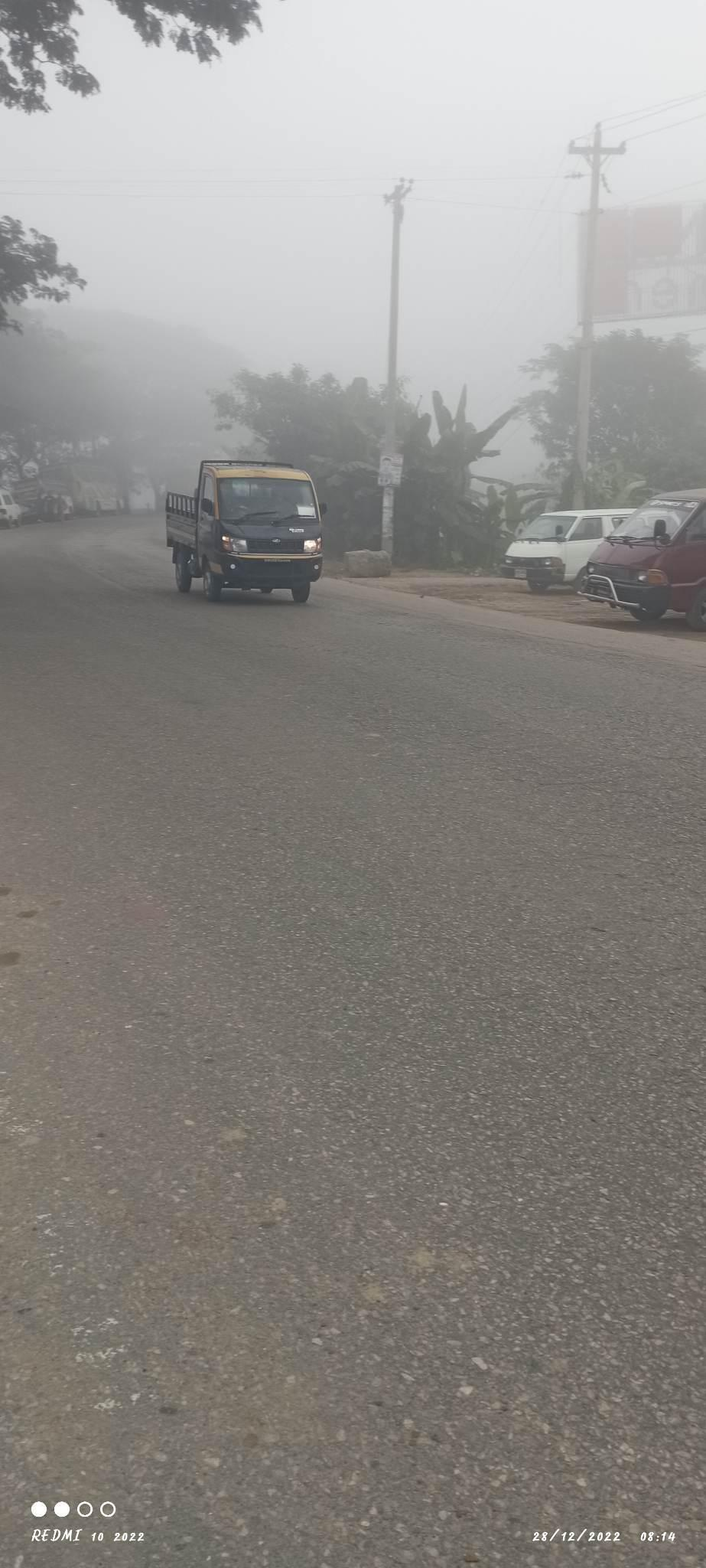Car: (587, 489, 706, 642), (490, 476, 630, 585)
Truck: (126, 446, 346, 635)
